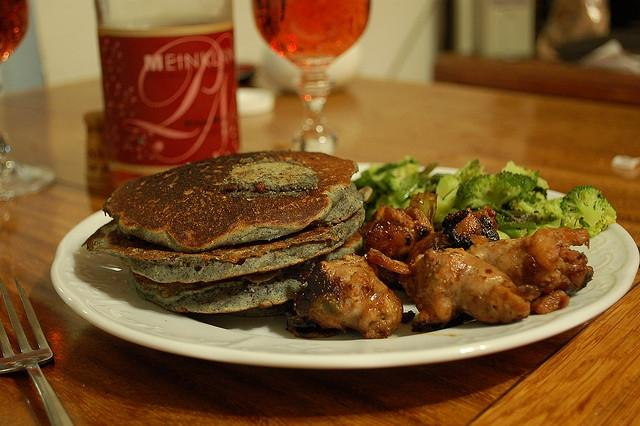broccoli: (352, 154, 421, 210), (560, 184, 618, 238), (488, 172, 536, 208), (452, 174, 497, 210), (434, 175, 461, 232), (453, 158, 486, 184), (508, 196, 534, 214)
